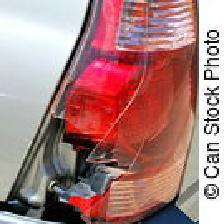broken_light: (1, 3, 194, 219)
